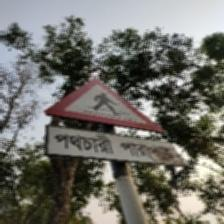Pedestrian-crossing: (43, 77, 183, 168)
